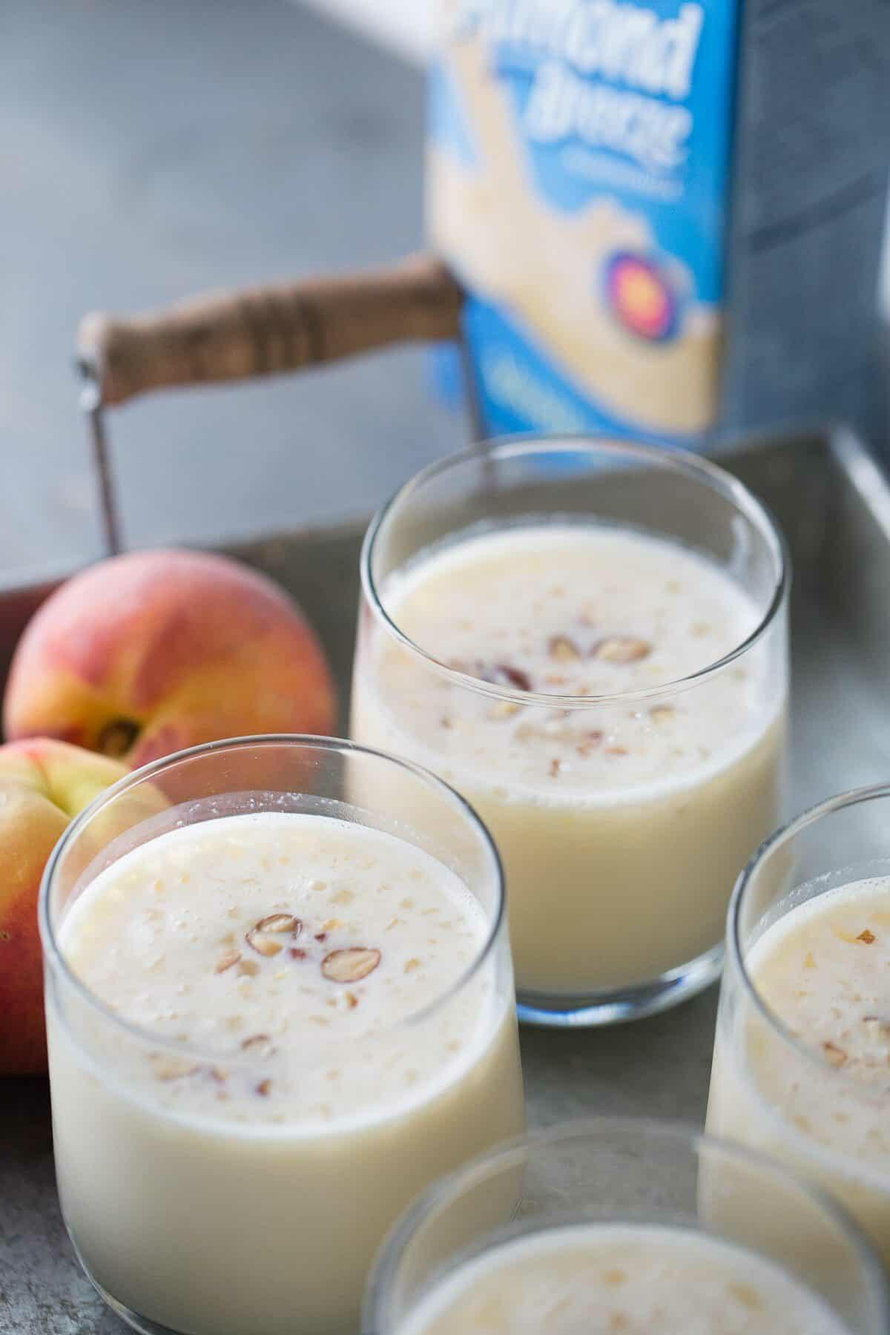Lassi: (44, 813, 525, 1335), (344, 528, 787, 996), (699, 875, 890, 1335), (387, 1224, 857, 1335)
